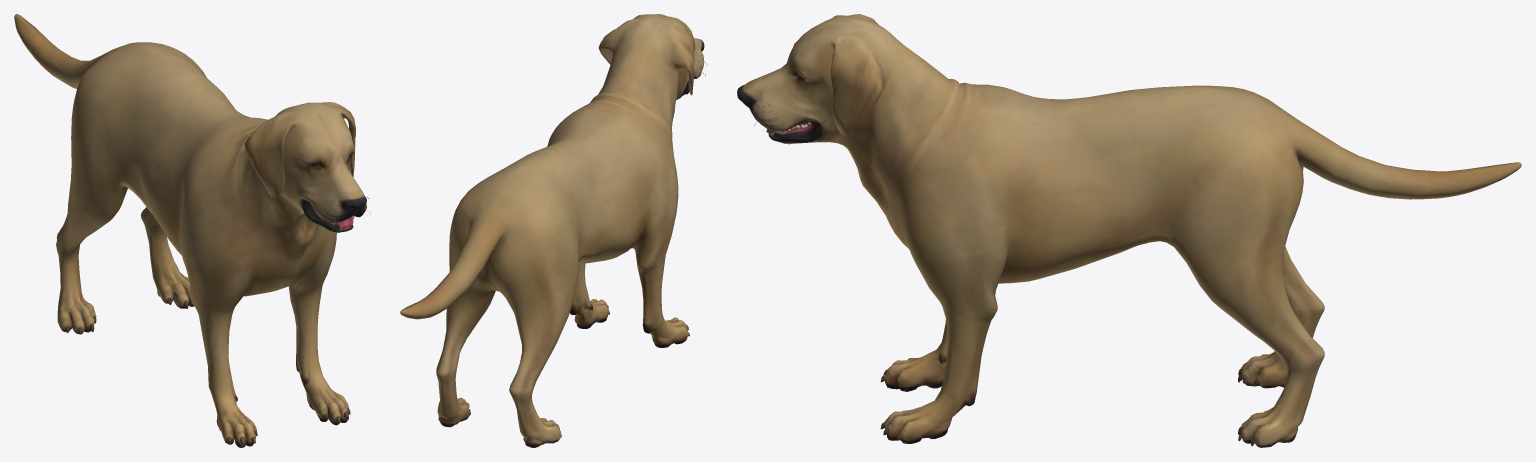
The model's file is dog.glb.
3 renders of one model, left to right at view 1: azimuth 30°, elevation 25°; view 2: azimuth 150°, elevation 25°; view 3: azimuth 270°, elevation 25°, orthographic. The views are drawn at different scales.
Visible parts, largest first — view 1: node_id126_1; view 2: node_id126_1; view 3: node_id126_1.
Boxes of the visible parts, x1,y1,x2,y2 form: node_id126_1: (14,14,370,447); node_id126_1: (400,14,707,447); node_id126_1: (737,14,1521,447).
Size of the model in its own units: 0.2187 by 0.5118 by 0.933.
Materials: 1 (1 with a texture image).
